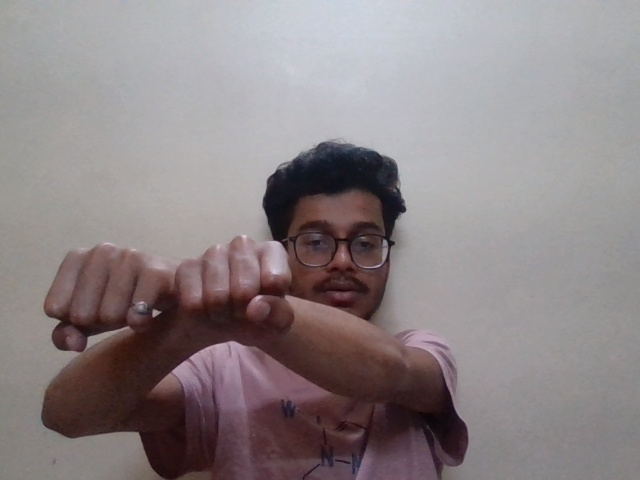work: (41, 218, 320, 386)
